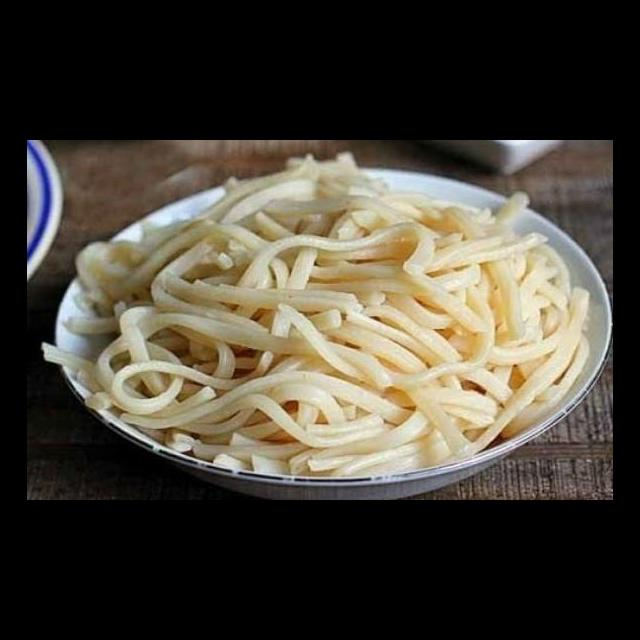mi: (40, 148, 595, 483)
